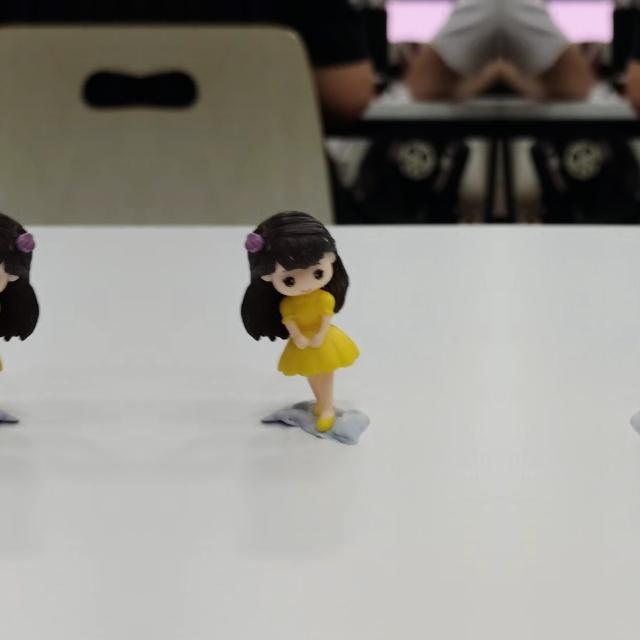woman head: (241, 202, 341, 296), (0, 201, 39, 296)
